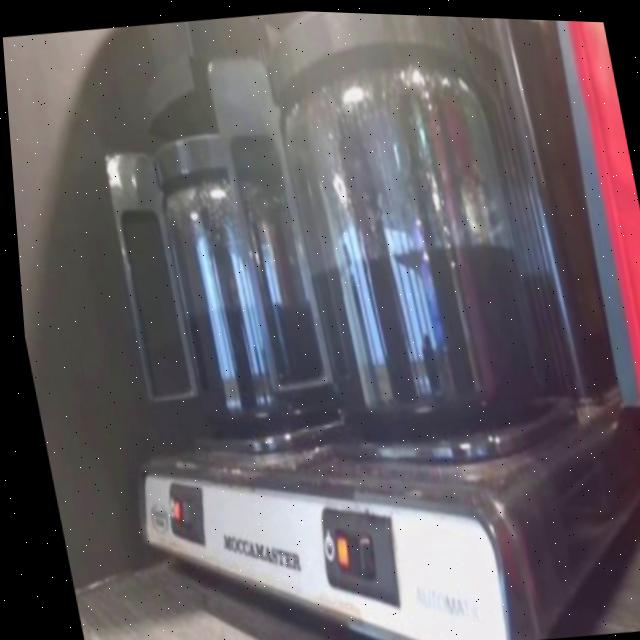coffee: (281, 96, 541, 444), (145, 199, 332, 431)
